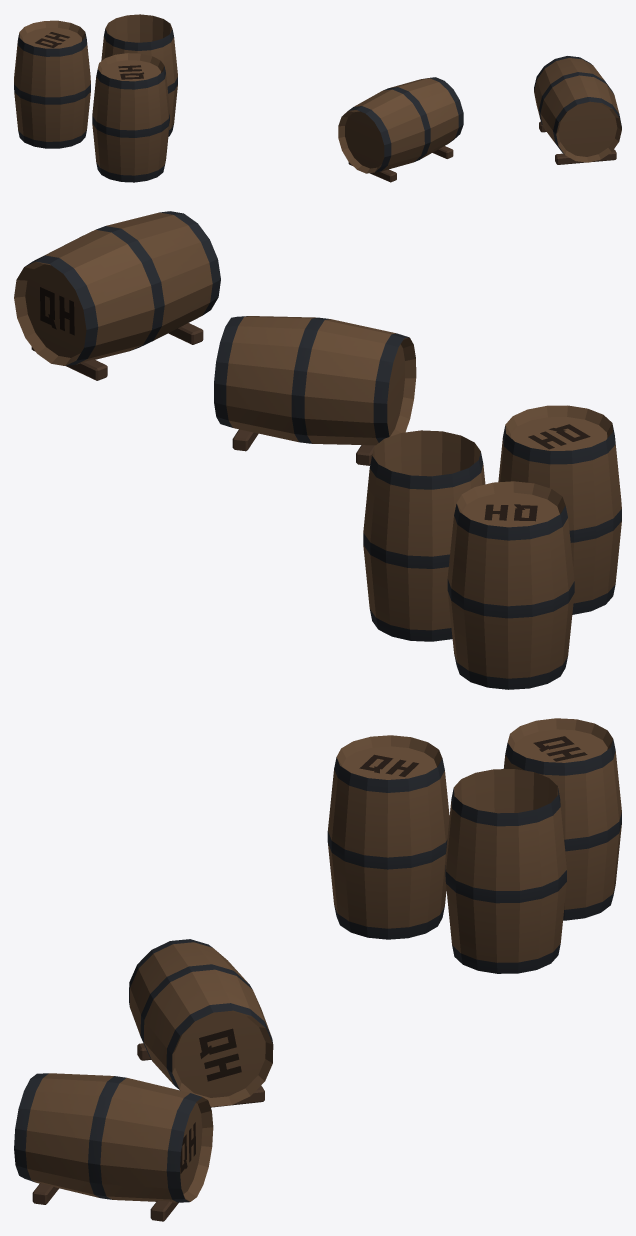
The model's file is barrels.glb.
3 views of the same model, one above another, from view 1: azimuth 30°, elevation 25°; view 2: azimuth 150°, elevation 25°; view 3: azimuth 270°, elevation 25° (orthographic). The views are drawn at different scales.
Visible parts, largest first — view 1: isl_barrels; view 2: isl_barrels; view 3: isl_barrels.
Boxes of the visible parts, x1=… form: isl_barrels: x1=14, y1=14, x2=621, y2=182; isl_barrels: x1=14, y1=211, x2=621, y2=689; isl_barrels: x1=14, y1=718, x2=621, y2=1221.
Size of the model in its own units: 4.32 by 0.9126 by 3.13.
